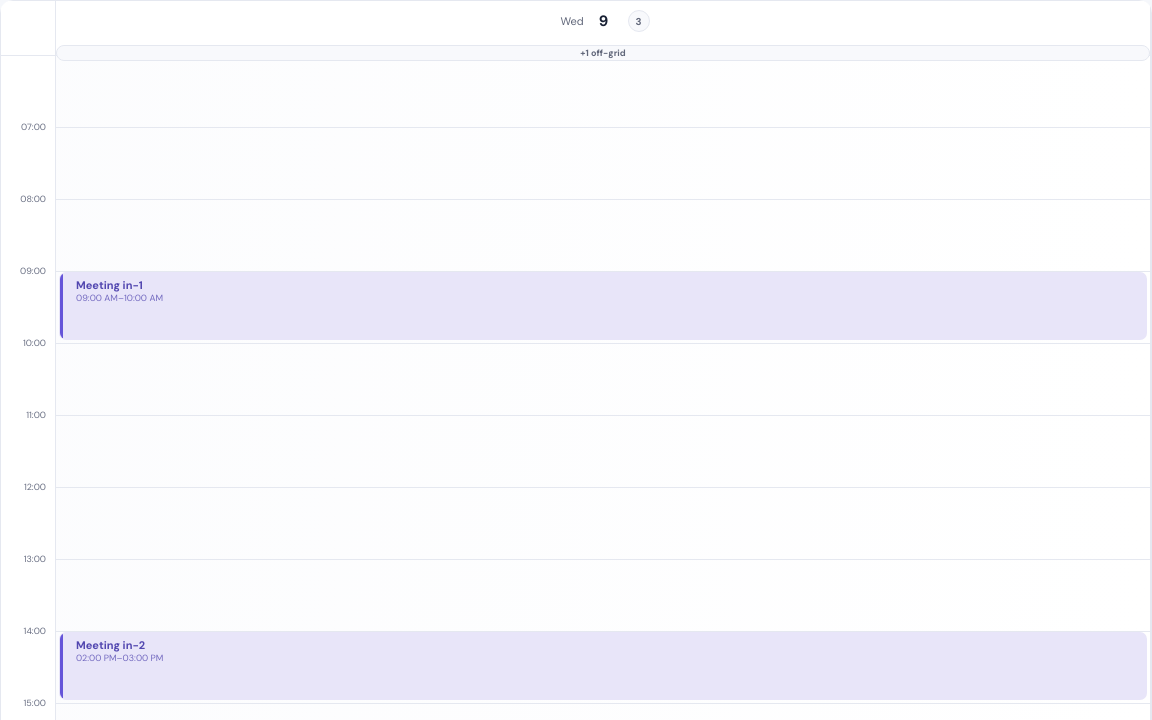
Test: meetings outside the drawn hour window › opens the full day list so the hidden meeting stays reachable
Click the button "+1 off-grid" at (603, 53), box x1=56 y1=45 x2=1150 y2=61
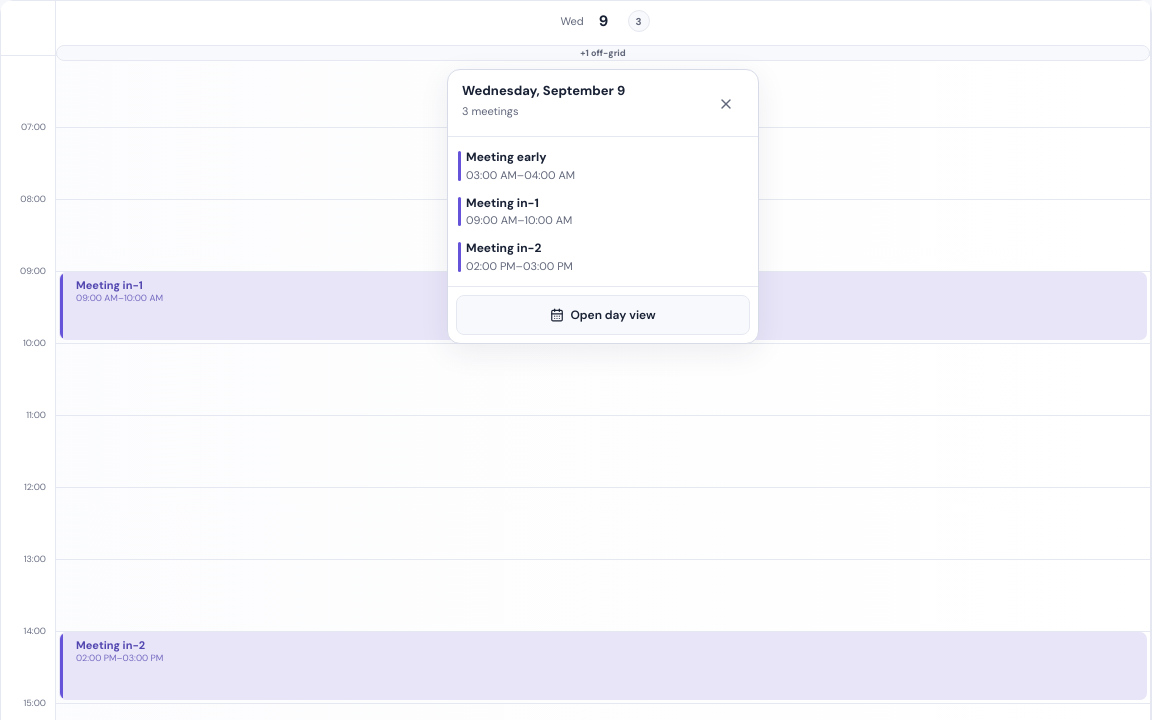
Check: the text "Meeting early" is shown, box x1=466 y1=149 x2=546 y2=165
